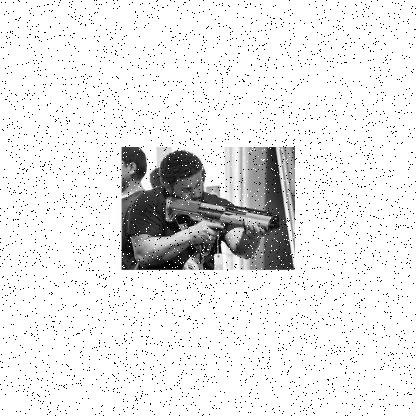gun: (159, 195, 283, 256)
